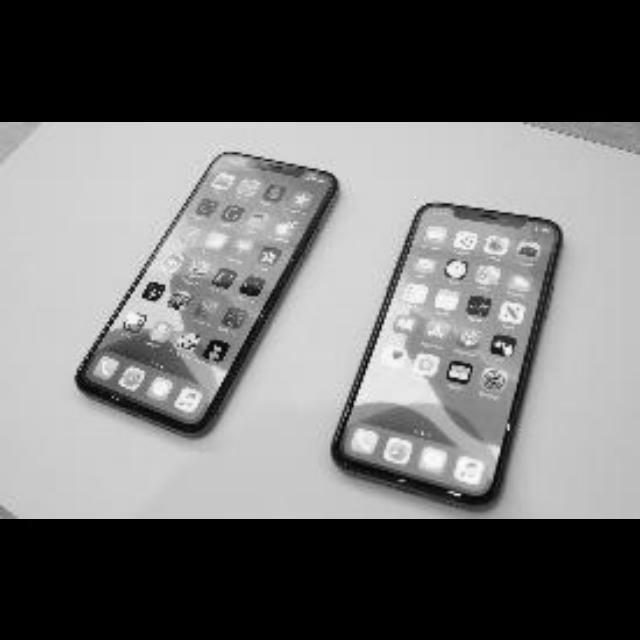fake: (76, 132, 341, 481), (349, 186, 569, 508)
